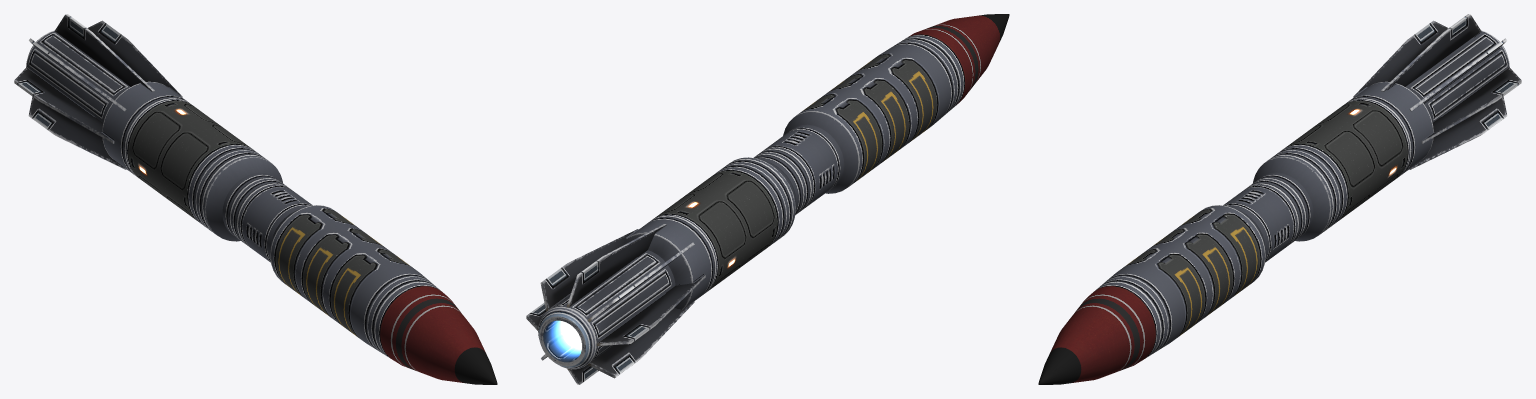
File: StandardMissileLarge.fbx
The picture shows the model from 3 angles, left to right: view 1: azimuth 30°, elevation 25°; view 2: azimuth 150°, elevation 25°; view 3: azimuth 330°, elevation 25°; orthographic projection.
Visible parts, largest first — view 1: StandardMissileLarge; view 2: StandardMissileLarge; view 3: StandardMissileLarge.
Boxes of the visible parts, x1,y1,x2,y2 form: StandardMissileLarge: (14, 14, 497, 384); StandardMissileLarge: (526, 14, 1009, 384); StandardMissileLarge: (1038, 14, 1521, 384).
Bounding box in the file's own units: 5.38 × 5.38 × 39.83.
